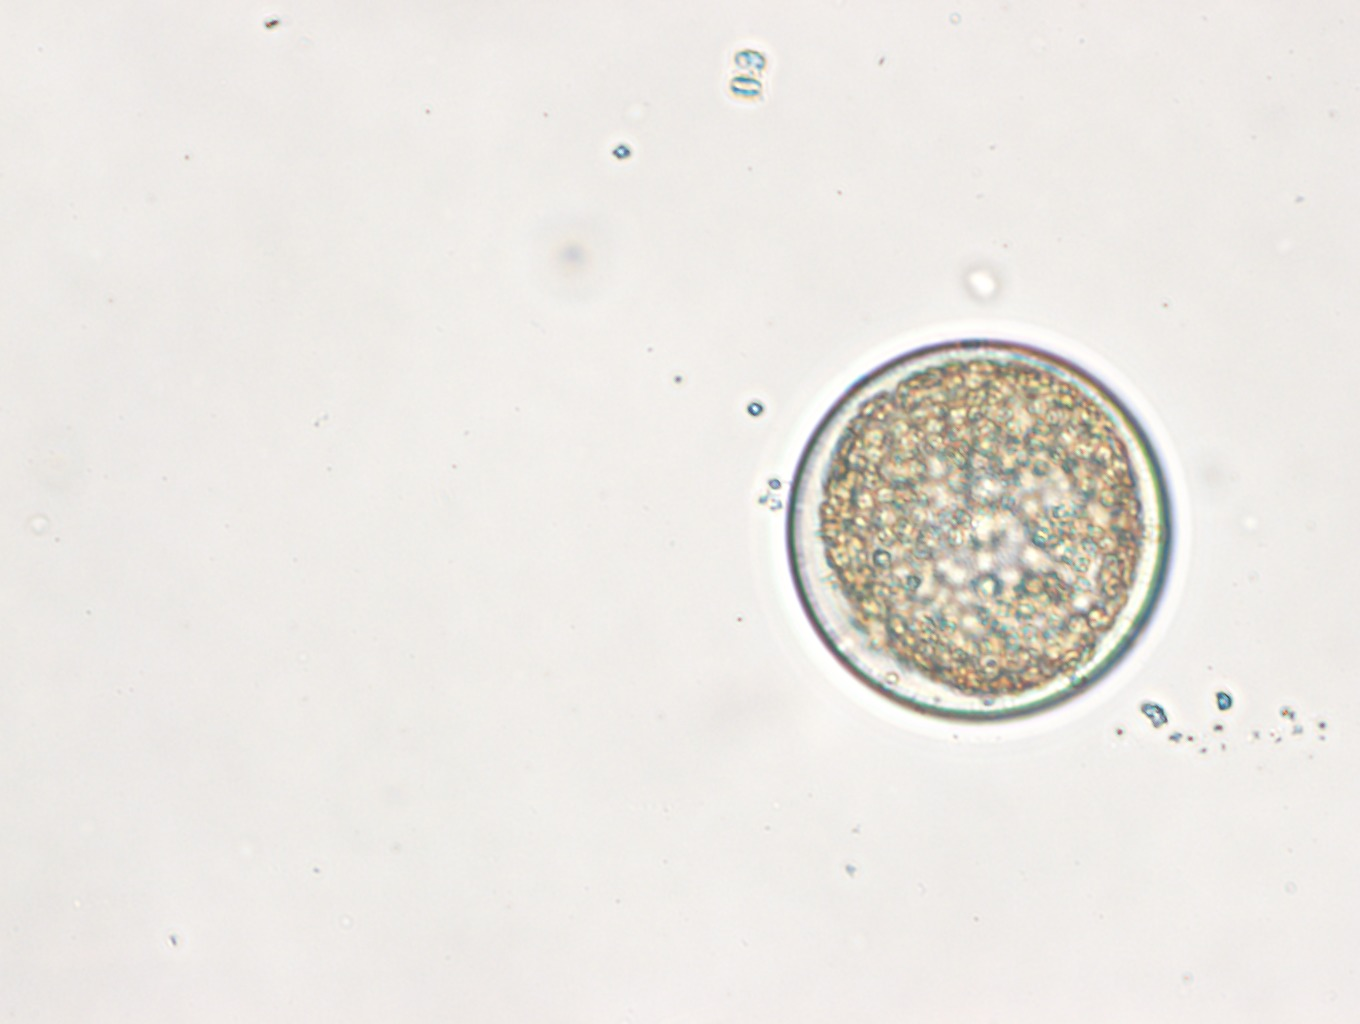coscinodiscus: (786, 335, 1171, 720)
